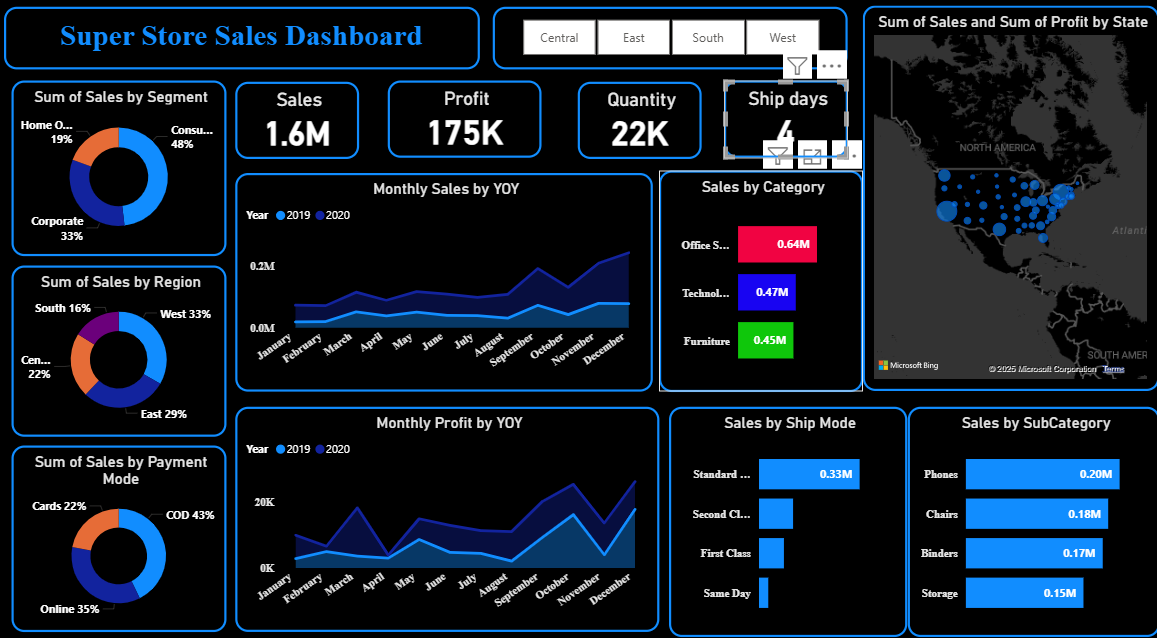

The dashboard page shown, as its layout file describes it:
{"tool":"powerbi","page":{"name":"Page 1","canvas":[1280,720],"ordinal":0},"visuals":[{"type":"barChart","title":"Sales by Category","fields":{"Category":["SuperStore_Sales_Dataset.Category"],"Y":["Sum(SuperStore_Sales_Dataset.Sales)"]},"box":[730,194.3,224.3,242.9],"z":0},{"type":"barChart","title":"Sales by SubCategory","fields":{"Category":["SuperStore_Sales_Dataset.Sub-Category"],"Y":["Sum(SuperStore_Sales_Dataset.Sales)"]},"box":[1002.9,454.3,277.1,252.9],"z":1000},{"type":"barChart","title":"Sales by Ship Mode","fields":{"Y":["Sum(SuperStore_Sales_Dataset.Sales)"],"Category":["SuperStore_Sales_Dataset.Ship Mode"]},"box":[741.4,454.3,261.4,252.9],"z":2000},{"type":"stackedAreaChart","title":"Monthly Sales by YOY","fields":{"Y":["Sum(SuperStore_Sales_Dataset.Sales)"],"Category":["SuperStore_Sales_Dataset.Order Date.Variation.Date Hierarchy.Month","SuperStore_Sales_Dataset.Order Date.Variation.Date Hierarchy.Day"],"Series":["SuperStore_Sales_Dataset.Order Date.Variation.Date Hierarchy.Year"]},"box":[264.3,197.1,458.6,240],"z":3000},{"type":"stackedAreaChart","title":"Monthly Profit by YOY","fields":{"Category":["SuperStore_Sales_Dataset.Order Date.Variation.Date Hierarchy.Month","SuperStore_Sales_Dataset.Order Date.Variation.Date Hierarchy.Day"],"Series":["SuperStore_Sales_Dataset.Order Date.Variation.Date Hierarchy.Year"],"Y":["Sum(SuperStore_Sales_Dataset.Profit)"]},"box":[264.3,454.3,465.7,247.1],"z":4000},{"type":"map","title":"Sum of Sales and Sum of Profit by State","fields":{"Category":["SuperStore_Sales_Dataset.State"],"Size":["Sum(SuperStore_Sales_Dataset.Sales)"]},"box":[954.3,14.3,325.7,422.9],"z":5000},{"type":"donutChart","fields":{"Category":["SuperStore_Sales_Dataset.Segment"],"Y":["Sum(SuperStore_Sales_Dataset.Sales)"]},"box":[19.4,95.5,235.8,192.5],"z":6000},{"type":"donutChart","fields":{"Y":["Sum(SuperStore_Sales_Dataset.Sales)"],"Category":["SuperStore_Sales_Dataset.Payment Mode"]},"box":[19.4,497,235.8,204.5],"z":7000},{"type":"slicer","fields":{"Values":["SuperStore_Sales_Dataset.Region"]},"box":[547.8,14.9,389.6,68.7],"z":8000},{"type":"textbox","box":[10.4,14.9,522.4,68.7],"z":9000},{"type":"card","title":"Sales","fields":{"Values":["Sum(SuperStore_Sales_Dataset.Sales)"]},"box":[264.2,97,135.8,85.1],"z":10000},{"type":"card","title":"Quantity","fields":{"Values":["Sum(SuperStore_Sales_Dataset.Quantity)"]},"box":[640.3,97,135.8,85.1],"z":11000},{"type":"card","title":"Profit","fields":{"Values":["Sum(SuperStore_Sales_Dataset.Profit)"]},"box":[432.8,95.5,168.7,85.1],"z":12000},{"type":"card","title":"Ship days","fields":{"Values":["Avg(SuperStore_Sales_Dataset.AvgDelivery)"]},"box":[801.5,95.5,135.8,85.1],"z":13000},{"type":"donutChart","fields":{"Y":["Sum(SuperStore_Sales_Dataset.Sales)"],"Category":["SuperStore_Sales_Dataset.Region"]},"box":[19.4,298.5,235.8,188.1],"z":14000}]}

Visuals, with their boxes in screenshot pixels (x1, y1, x2, y2), scaled from the page's 1280x720 canvas onto the 1157x638 screenshot:
"Sales by Category" barChart: (660, 172, 863, 387)
"Sales by SubCategory" barChart: (907, 403, 1156, 627)
"Sales by Ship Mode" barChart: (670, 403, 906, 627)
"Monthly Sales by YOY" stackedAreaChart: (239, 175, 653, 387)
"Monthly Profit by YOY" stackedAreaChart: (239, 403, 660, 622)
"Sum of Sales and Sum of Profit by State" map: (863, 13, 1156, 387)
donutChart - SuperStore_Sales_Dataset.Segment x Sum(SuperStore_Sales_Dataset.Sales): (18, 85, 231, 255)
donutChart - Sum(SuperStore_Sales_Dataset.Sales) x SuperStore_Sales_Dataset.Payment Mode: (18, 440, 231, 622)
slicer - SuperStore_Sales_Dataset.Region: (495, 13, 847, 74)
textbox: (9, 13, 482, 74)
"Sales" card: (239, 86, 362, 161)
"Quantity" card: (579, 86, 702, 161)
"Profit" card: (391, 85, 544, 160)
"Ship days" card: (724, 85, 847, 160)
donutChart - Sum(SuperStore_Sales_Dataset.Sales) x SuperStore_Sales_Dataset.Region: (18, 265, 231, 431)
